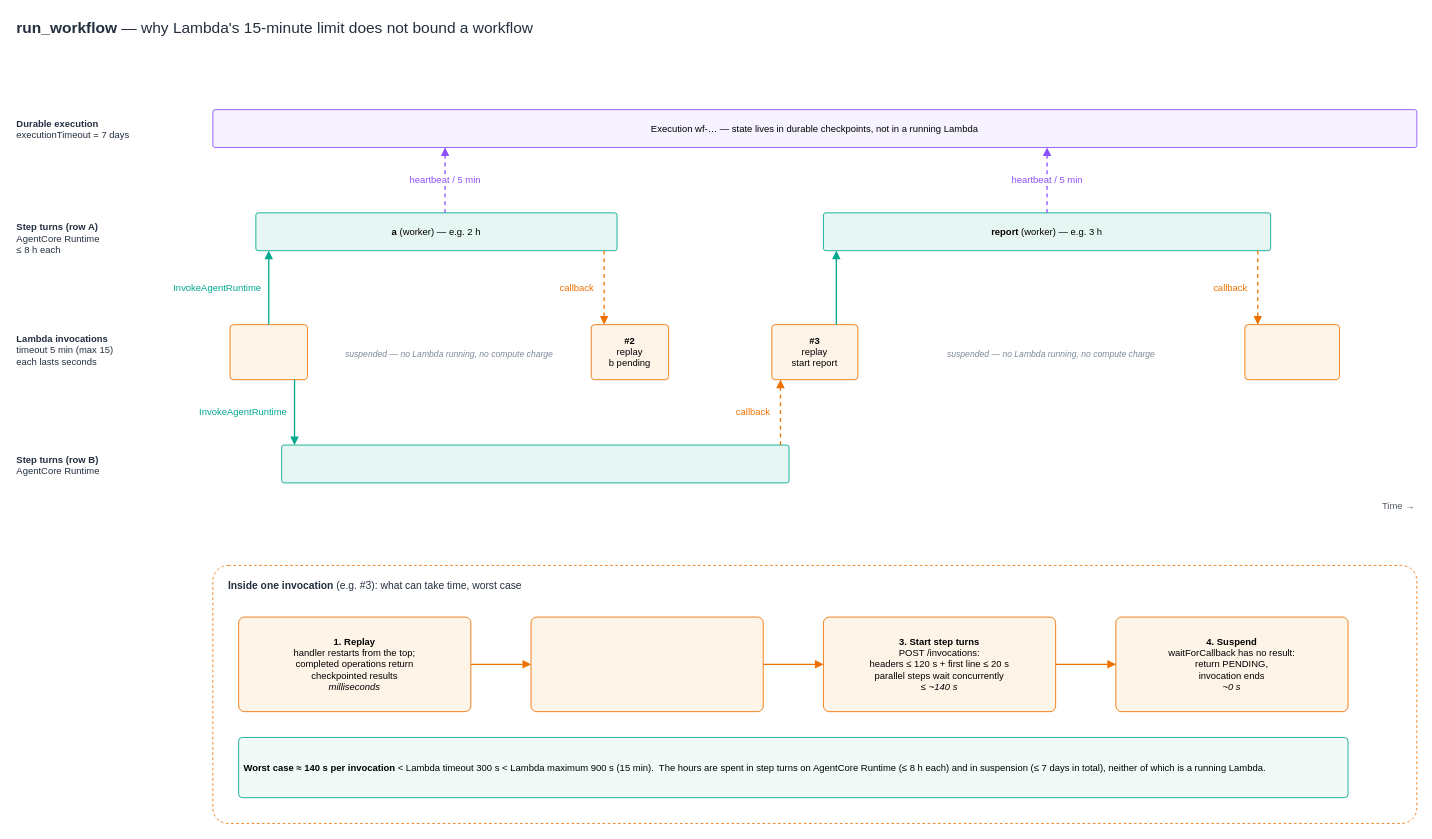
This 1432x839 diagram has some shape labels left out. Each missing label, with the centre of its shape:
#1 start a, b: the point at 268,352
#4 replay finalize, notify: the point at 1291,352
2. New operations save step state (DynamoDB), mint tokens (Cognito) ~1 s: the point at 646,664
b (worker) — e.g. 3 h: the point at 535,463
